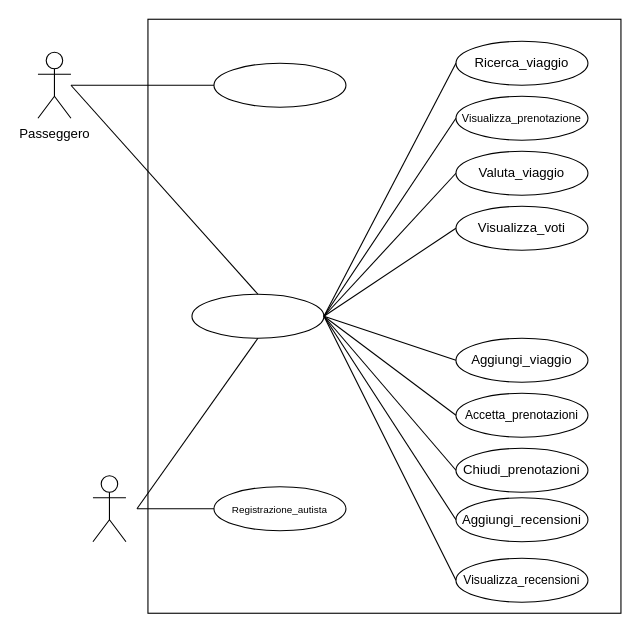
Image size: 640x633. Some labels were removed from this diagram. The centre of each missing label's shape, as x and y in pixels:
Accesso: the point at 257,315
Autista: the point at 109,508
Registrazione_passeggero: the point at 279,84
